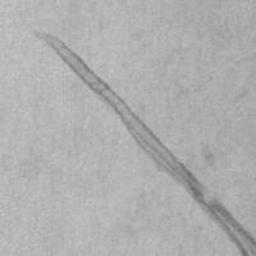Water spot: (42, 32, 256, 256)
